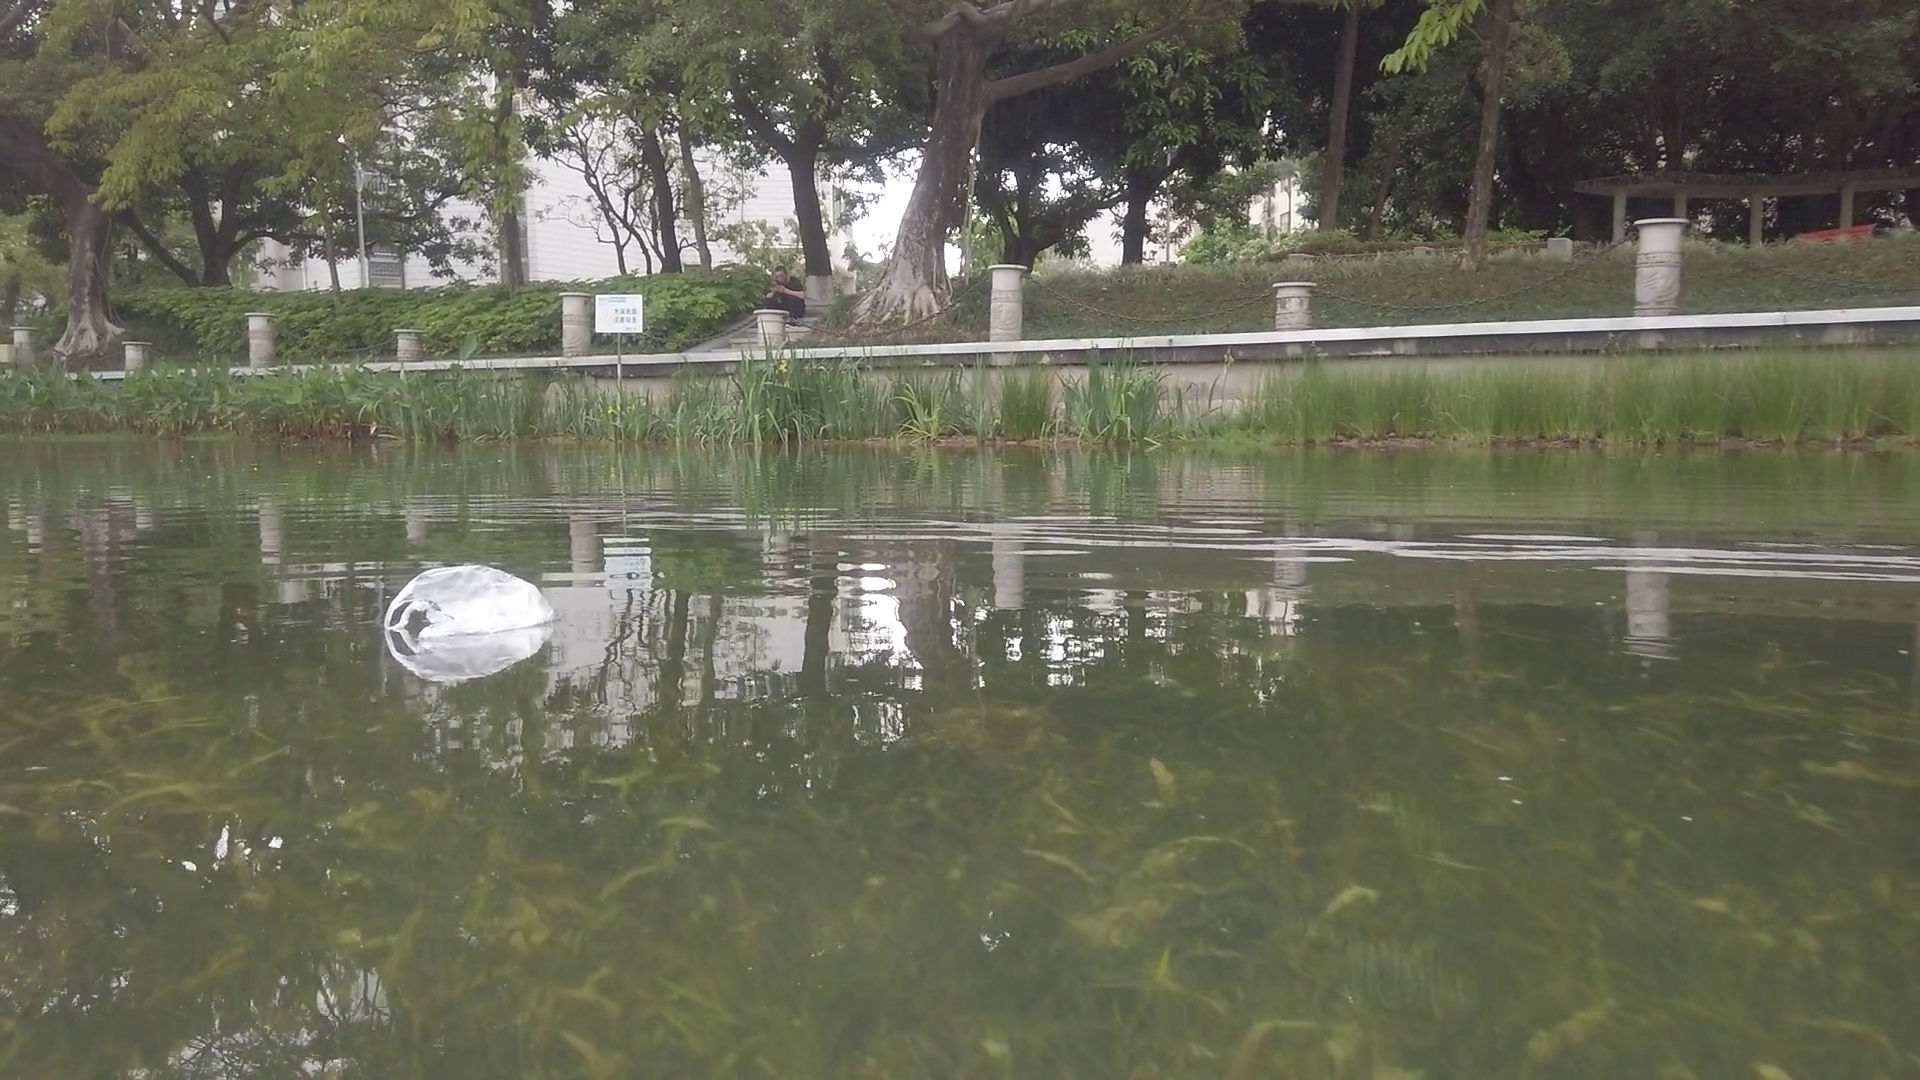plastic: (382, 564, 556, 636)
